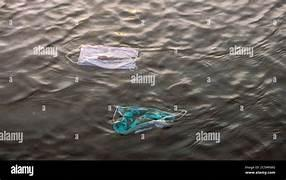Mask: (113, 106, 185, 134), (77, 45, 138, 68)
